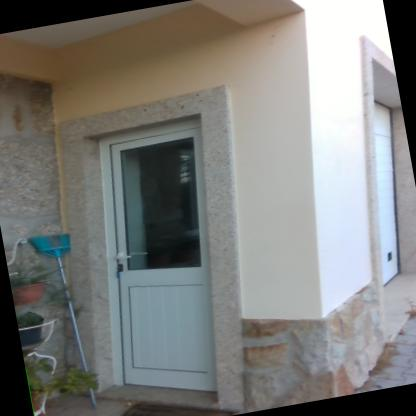closed: (54, 102, 266, 415)
